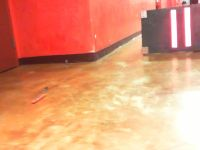switch: (183, 7, 192, 47), (170, 9, 178, 48)
